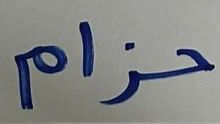alef: (77, 18, 95, 80)
dal: (148, 44, 216, 84)
meem: (9, 43, 72, 114)
reh: (99, 40, 145, 107)
